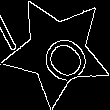O_NW: (24, 18, 90, 84)
